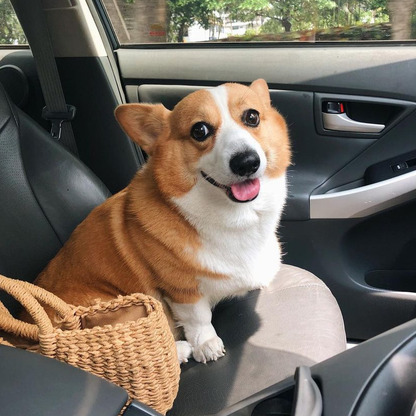Corgi: (56, 73, 298, 350)
